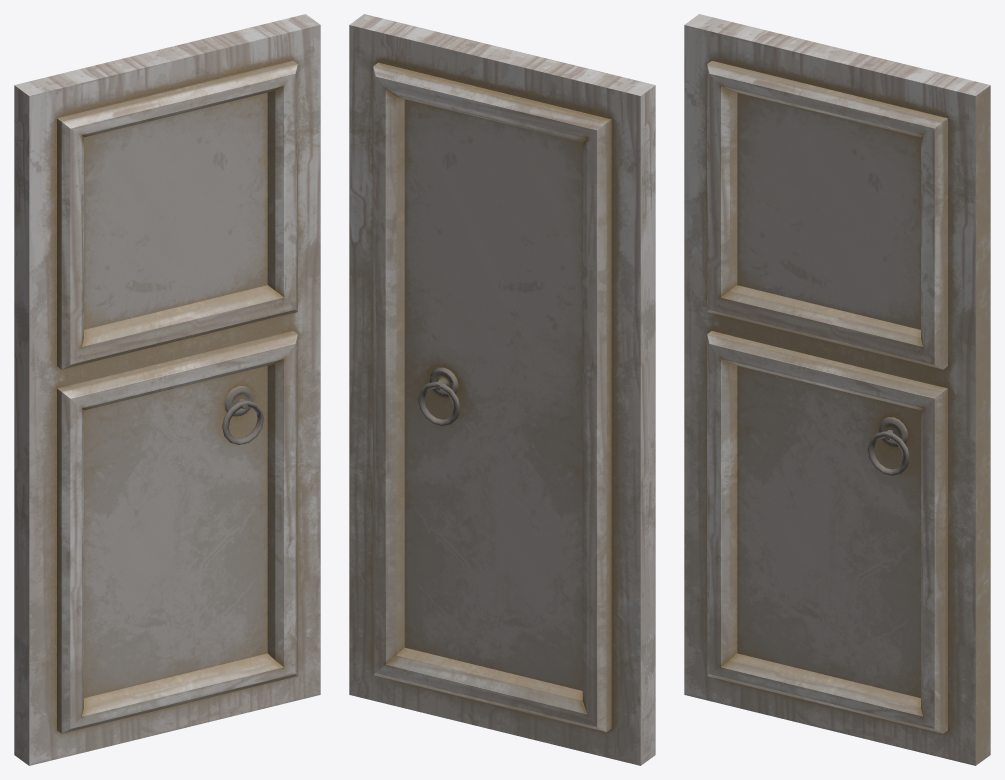
File: Door Left side.fbx
3 views of the same model, side by side, from view 1: azimuth 30°, elevation 25°; view 2: azimuth 150°, elevation 25°; view 3: azimuth 330°, elevation 25° (orthographic).
Visible parts, largest first — view 1: door; view 2: door; view 3: door.
Boxes of the visible parts, x1,y1,x2,y2 form: door: (14, 14, 320, 765); door: (349, 14, 655, 765); door: (684, 14, 990, 765).
Bounding box in the file's own units: 80.15 × 176 × 15.02.
